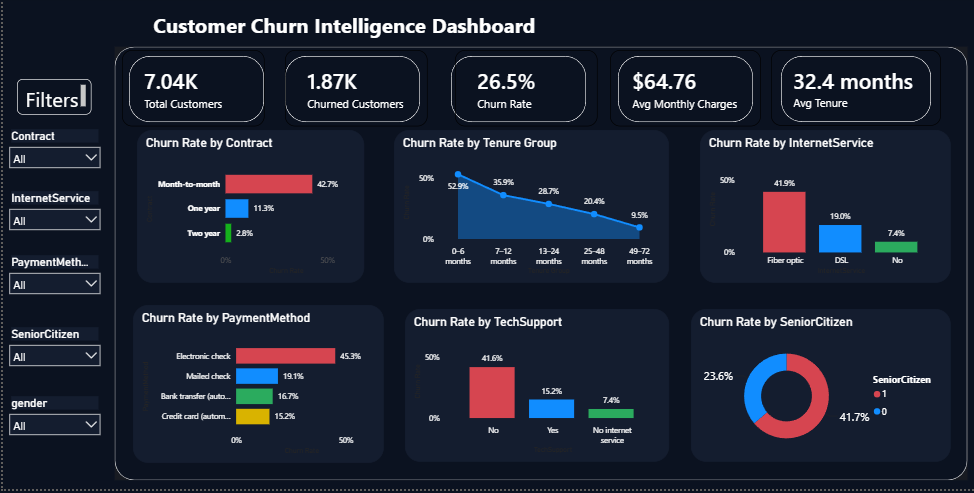

The dashboard page shown, as its layout file describes it:
{"tool":"powerbi","page":{"name":"Page 1","canvas":[1535,773],"ordinal":0},"visuals":[{"type":"textbox","box":[231.2,0,736.1,76.1],"z":0},{"type":"shape","box":[175,77.6,1341.9,683.3],"z":1000},{"type":"cardVisual","fields":{"Data":["CountNonNull(WA_Fn-UseC_-Telco-Customer-Chur.customerID)"]},"box":[187.1,83.9,223.9,120],"z":2000},{"type":"shape","box":[1222.6,91.9,235.7,103.7],"z":3000},{"type":"shape","box":[443.5,91.9,212.2,103.9],"z":4000},{"type":"shape","box":[703.2,91.9,212.2,103.9],"z":5000},{"type":"shape","box":[966.1,91.9,212.2,103.9],"z":6000},{"type":"cardVisual","fields":{"Data":["WA_Fn-UseC_-Telco-Customer-Chur.Churned Customers"]},"box":[443.5,83.9,223.9,120],"z":7000},{"type":"cardVisual","fields":{"Data":["WA_Fn-UseC_-Telco-Customer-Chur.Churn Rate"]},"box":[709.7,83.9,223.9,120],"z":8000},{"type":"cardVisual","fields":{"Data":["WA_Fn-UseC_-Telco-Customer-Chur.Avg Monthly Charges"]},"box":[953.2,83.9,237.1,120],"z":9000},{"type":"cardVisual","fields":{"Data":["WA_Fn-UseC_-Telco-Customer-Chur.Avg Tenure"]},"box":[1206.5,83.9,267.1,119.4],"z":10000},{"type":"shape","box":[198.1,92.4,212.2,103.9],"z":11000},{"type":"clusteredBarChart","fields":{"Y":["WA_Fn-UseC_-Telco-Customer-Chur.Churn Rate"],"Category":["WA_Fn-UseC_-Telco-Customer-Chur.Contract"]},"box":[211.3,209.6,356.6,240.4],"z":12000},{"type":"lineChart","fields":{"Category":["WA_Fn-UseC_-Telco-Customer-Chur.Tenure Group"],"Y":["WA_Fn-UseC_-Telco-Customer-Chur.Churn Rate"]},"box":[614,209.6,432.3,240.3],"z":13000},{"type":"clusteredColumnChart","fields":{"Category":["WA_Fn-UseC_-Telco-Customer-Chur.InternetService"],"Y":["WA_Fn-UseC_-Telco-Customer-Chur.Churn Rate"]},"box":[1094.3,209.6,394.4,240.4],"z":14000},{"type":"clusteredBarChart","fields":{"Category":["WA_Fn-UseC_-Telco-Customer-Chur.PaymentMethod"],"Y":["WA_Fn-UseC_-Telco-Customer-Chur.Churn Rate"]},"box":[204.7,483.6,394.4,248.2],"z":15000},{"type":"clusteredColumnChart","fields":{"Category":["WA_Fn-UseC_-Telco-Customer-Chur.TechSupport"],"Y":["WA_Fn-UseC_-Telco-Customer-Chur.Churn Rate"]},"box":[632.2,490.2,414.5,240.3],"z":16000},{"type":"donutChart","fields":{"Category":["WA_Fn-UseC_-Telco-Customer-Chur.SeniorCitizen"],"Y":["WA_Fn-UseC_-Telco-Customer-Chur.Churn Rate"]},"box":[1081.1,490.2,408.1,240.3],"z":17000},{"type":"slicer","fields":{"Values":["WA_Fn-UseC_-Telco-Customer-Chur.Contract"]},"box":[0,203,163.4,97.4],"z":17001},{"type":"slicer","fields":{"Values":["WA_Fn-UseC_-Telco-Customer-Chur.InternetService"]},"box":[0,300.4,163.4,97.4],"z":17002},{"type":"slicer","fields":{"Values":["WA_Fn-UseC_-Telco-Customer-Chur.PaymentMethod"]},"box":[0,401.1,163.4,97.4],"z":17003},{"type":"slicer","fields":{"Values":["WA_Fn-UseC_-Telco-Customer-Chur.SeniorCitizen"]},"box":[0,513.3,163.4,97.4],"z":17004},{"type":"slicer","fields":{"Values":["WA_Fn-UseC_-Telco-Customer-Chur.gender"]},"box":[0,622.3,163.4,97.4],"z":17005},{"type":"textbox","box":[21.5,128.7,117.2,56.1],"z":17006}]}

Visuals, with their boxes in screenshot pixels (x1, y1, x2, y2), scaled from the page's 1535x773 canvas onto the 974x493 screenshot:
textbox: (left=147, top=0, right=614, bottom=49)
shape: (left=111, top=49, right=963, bottom=485)
cardVisual - CountNonNull(WA_Fn-UseC_-Telco-Customer-Chur.customerID): (left=119, top=54, right=261, bottom=130)
shape: (left=776, top=59, right=925, bottom=125)
shape: (left=281, top=59, right=416, bottom=125)
shape: (left=446, top=59, right=581, bottom=125)
shape: (left=613, top=59, right=748, bottom=125)
cardVisual - WA_Fn-UseC_-Telco-Customer-Chur.Churned Customers: (left=281, top=54, right=423, bottom=130)
cardVisual - WA_Fn-UseC_-Telco-Customer-Chur.Churn Rate: (left=450, top=54, right=592, bottom=130)
cardVisual - WA_Fn-UseC_-Telco-Customer-Chur.Avg Monthly Charges: (left=605, top=54, right=755, bottom=130)
cardVisual - WA_Fn-UseC_-Telco-Customer-Chur.Avg Tenure: (left=766, top=54, right=935, bottom=130)
shape: (left=126, top=59, right=260, bottom=125)
clusteredBarChart - WA_Fn-UseC_-Telco-Customer-Chur.Churn Rate x WA_Fn-UseC_-Telco-Customer-Chur.Contract: (left=134, top=134, right=360, bottom=287)
lineChart - WA_Fn-UseC_-Telco-Customer-Chur.Tenure Group x WA_Fn-UseC_-Telco-Customer-Chur.Churn Rate: (left=390, top=134, right=664, bottom=287)
clusteredColumnChart - WA_Fn-UseC_-Telco-Customer-Chur.InternetService x WA_Fn-UseC_-Telco-Customer-Chur.Churn Rate: (left=694, top=134, right=945, bottom=287)
clusteredBarChart - WA_Fn-UseC_-Telco-Customer-Chur.PaymentMethod x WA_Fn-UseC_-Telco-Customer-Chur.Churn Rate: (left=130, top=308, right=380, bottom=467)
clusteredColumnChart - WA_Fn-UseC_-Telco-Customer-Chur.TechSupport x WA_Fn-UseC_-Telco-Customer-Chur.Churn Rate: (left=401, top=313, right=664, bottom=466)
donutChart - WA_Fn-UseC_-Telco-Customer-Chur.SeniorCitizen x WA_Fn-UseC_-Telco-Customer-Chur.Churn Rate: (left=686, top=313, right=945, bottom=466)
slicer - WA_Fn-UseC_-Telco-Customer-Chur.Contract: (left=0, top=129, right=104, bottom=192)
slicer - WA_Fn-UseC_-Telco-Customer-Chur.InternetService: (left=0, top=192, right=104, bottom=254)
slicer - WA_Fn-UseC_-Telco-Customer-Chur.PaymentMethod: (left=0, top=256, right=104, bottom=318)
slicer - WA_Fn-UseC_-Telco-Customer-Chur.SeniorCitizen: (left=0, top=327, right=104, bottom=389)
slicer - WA_Fn-UseC_-Telco-Customer-Chur.gender: (left=0, top=397, right=104, bottom=459)
textbox: (left=14, top=82, right=88, bottom=118)
